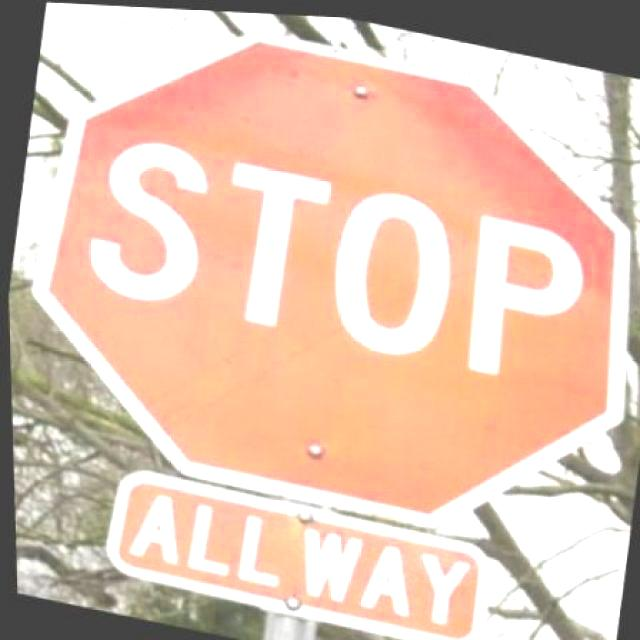stop_sign: (8, 0, 640, 557)
